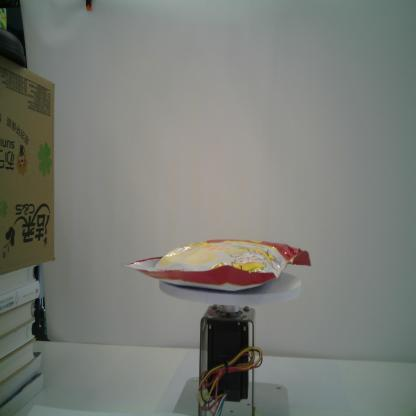Instant Drink: (122, 237, 312, 292)
